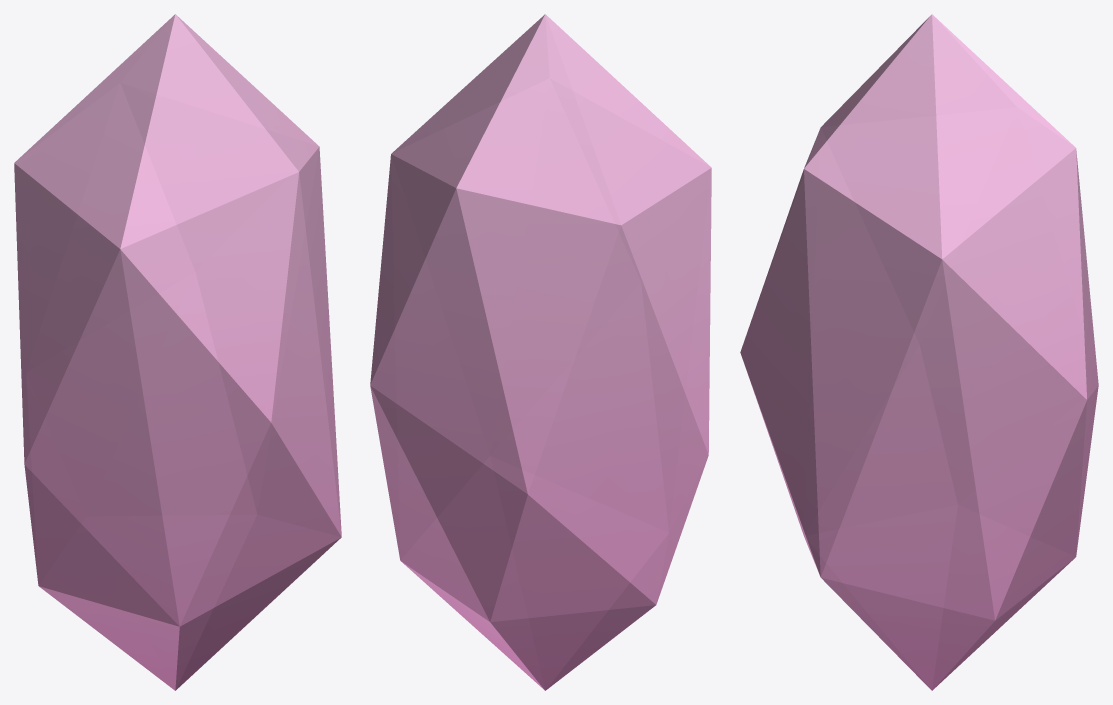
File: SaveCrystal.fbx
3 views of the same model, side by side, from view 1: azimuth 30°, elevation 25°; view 2: azimuth 150°, elevation 25°; view 3: azimuth 270°, elevation 25° (orthographic).
Parts seen in each view (by area): view 1: SaveCrystal; view 2: SaveCrystal; view 3: SaveCrystal.
Boxes of the visible parts, x1=… form: SaveCrystal: x1=14, y1=14, x2=341, y2=690; SaveCrystal: x1=370, y1=14, x2=711, y2=690; SaveCrystal: x1=740, y1=14, x2=1098, y2=690.
Size of the model in its own units: 1.88 by 1.85 by 3.91.
